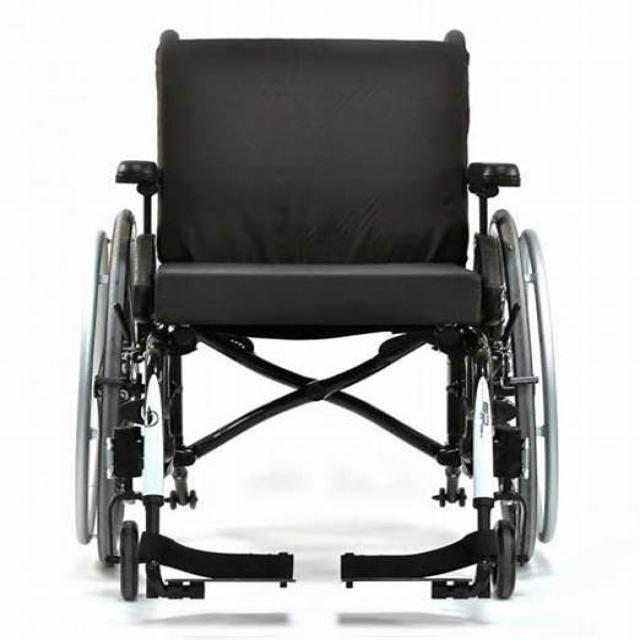wheelchairs: (75, 26, 561, 616)
